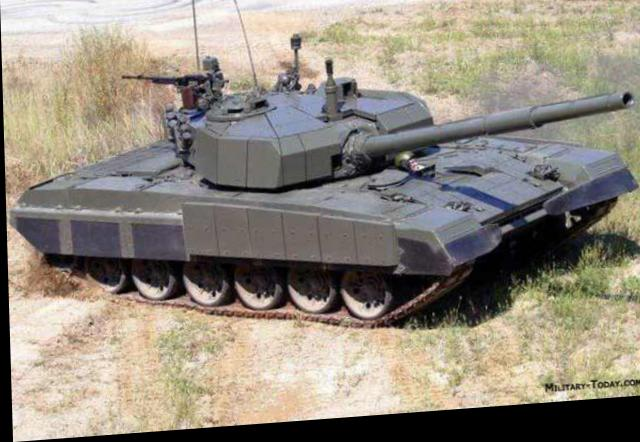tank: (43, 81, 619, 330)
